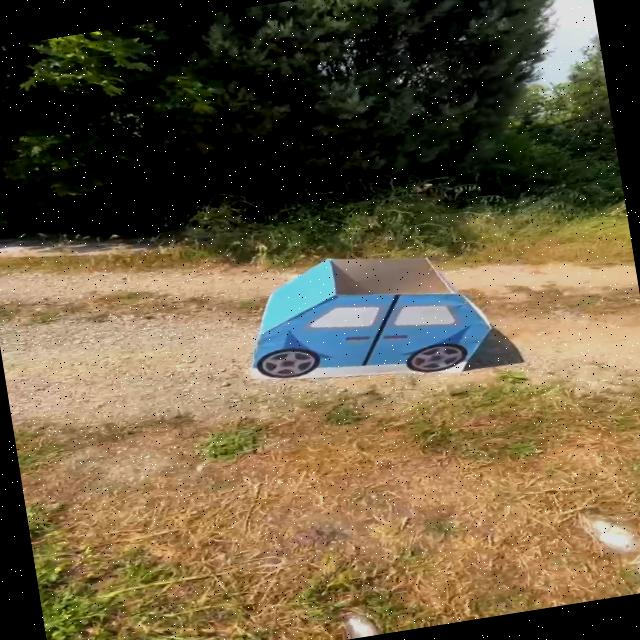blue_car: (225, 223, 515, 421)
